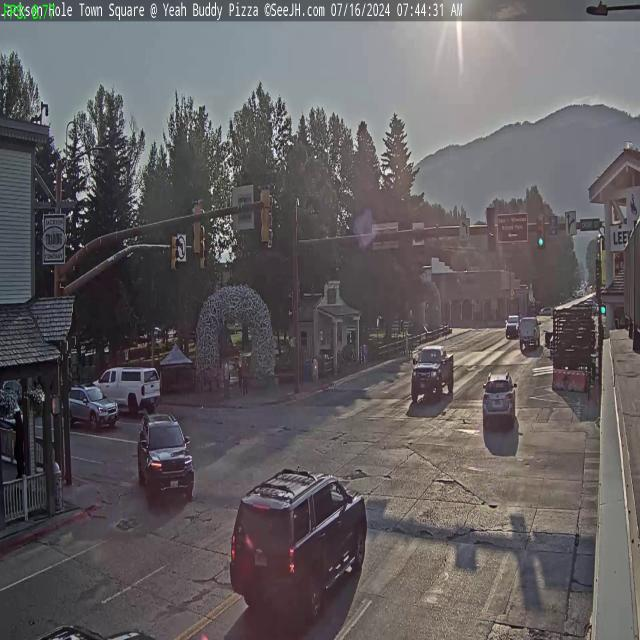person: (14, 410, 25, 481), (242, 357, 249, 396), (224, 359, 230, 400), (238, 354, 243, 391)
pickup: (410, 344, 456, 403)
suv: (228, 467, 369, 622), (136, 414, 195, 503), (66, 385, 118, 429), (481, 370, 517, 428)
traffic light: (259, 185, 274, 248), (192, 201, 202, 255), (486, 208, 496, 250), (170, 233, 178, 272), (200, 235, 208, 270), (537, 215, 545, 249)
truck: (94, 363, 162, 415), (518, 316, 540, 348)
